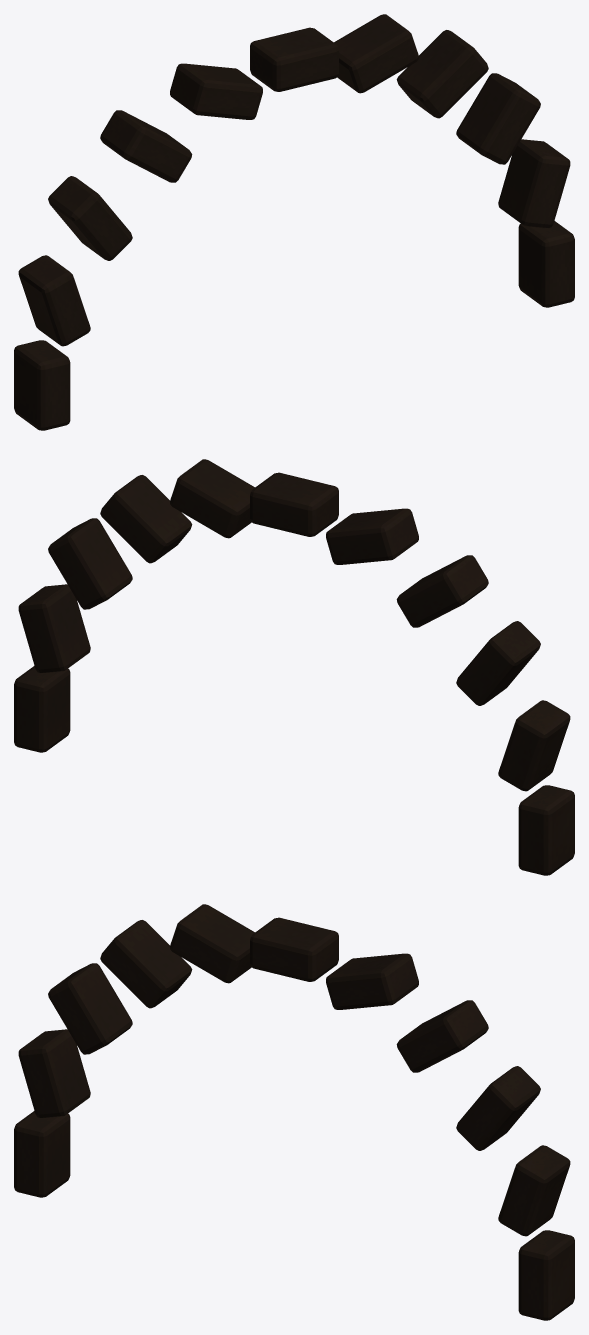
The model's file is prop_town_plank_arc.glb.
3 renders of one model, top to bottom at view 1: azimuth 30°, elevation 25°; view 2: azimuth 150°, elevation 25°; view 3: azimuth 330°, elevation 25°, orthographic.
Parts seen in each view (by area): view 1: oak; view 2: oak; view 3: oak.
Boxes of the visible parts, <box> form: oak: <box>14,14,574,430</box>; oak: <box>14,459,574,875</box>; oak: <box>14,904,574,1320</box>.
Size of the model in its own units: 4.58 by 2.57 by 0.42.
1 material, 1 textured.
